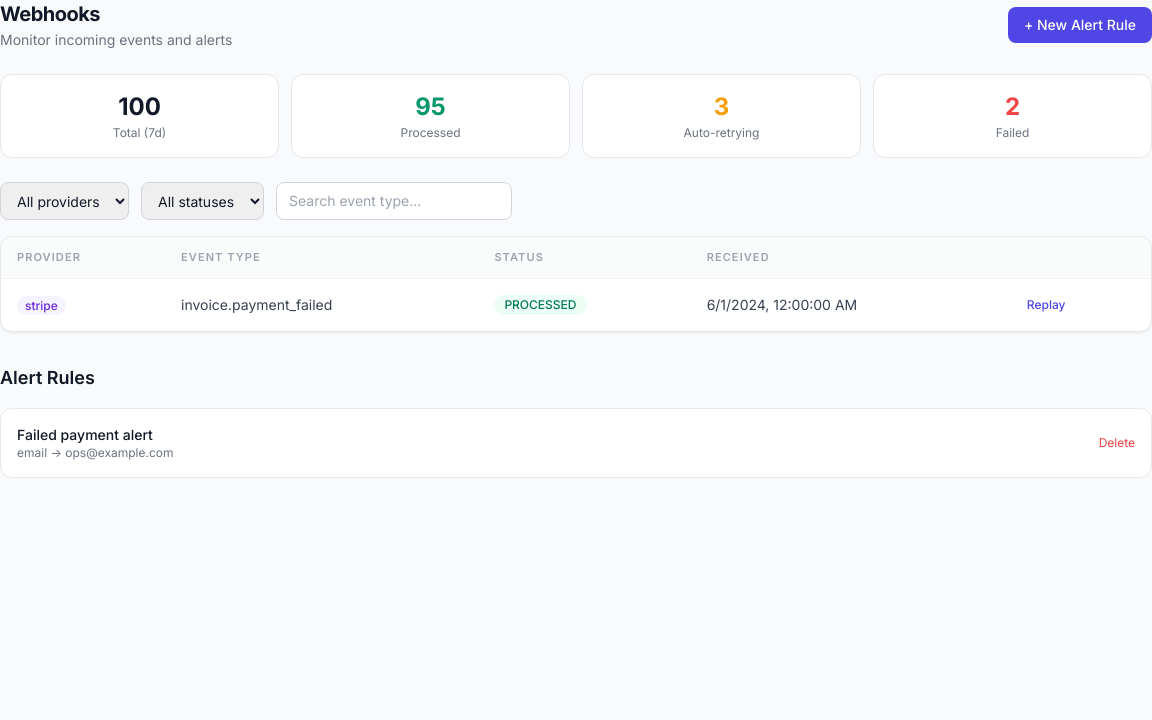
WebhooksPage › shows validation errors when alert rule form is submitted empty
The width and height of the screenshot is (1152, 720).
Click the button "+ New Alert Rule": (1080, 25) [1008,7,1151,43]
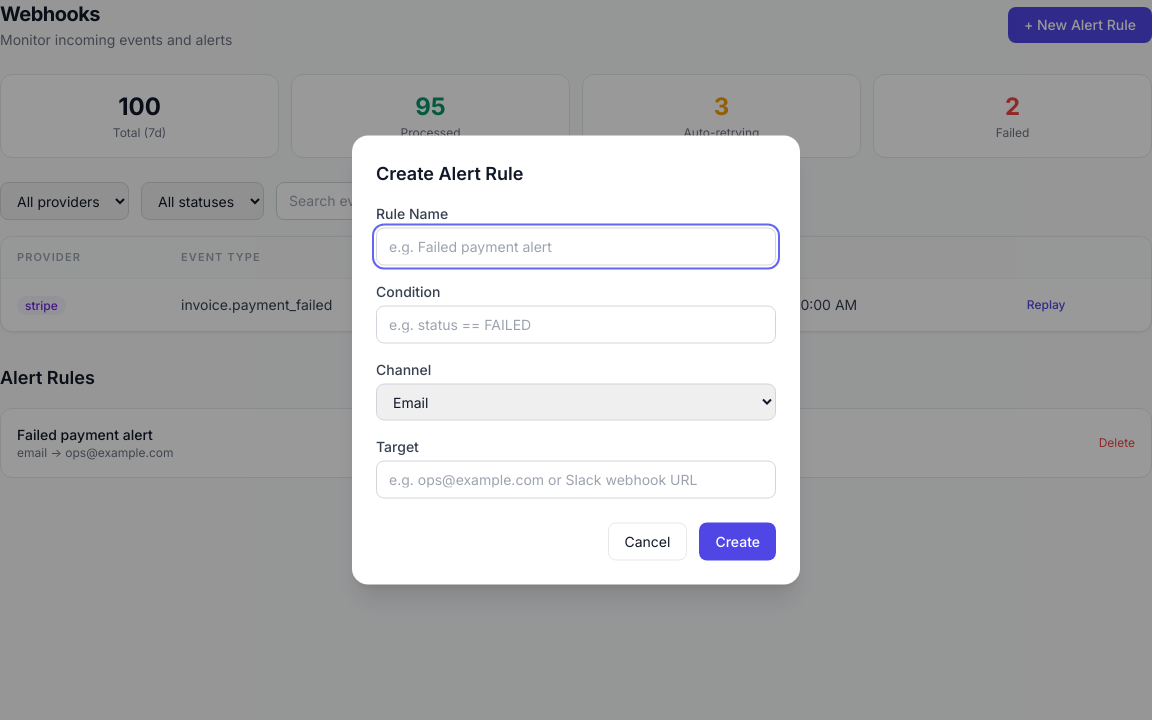
Now the heading "Create Alert Rule" is shown, box [376,162,524,184]
Click the button "Create": (738, 542) [699,522,776,560]
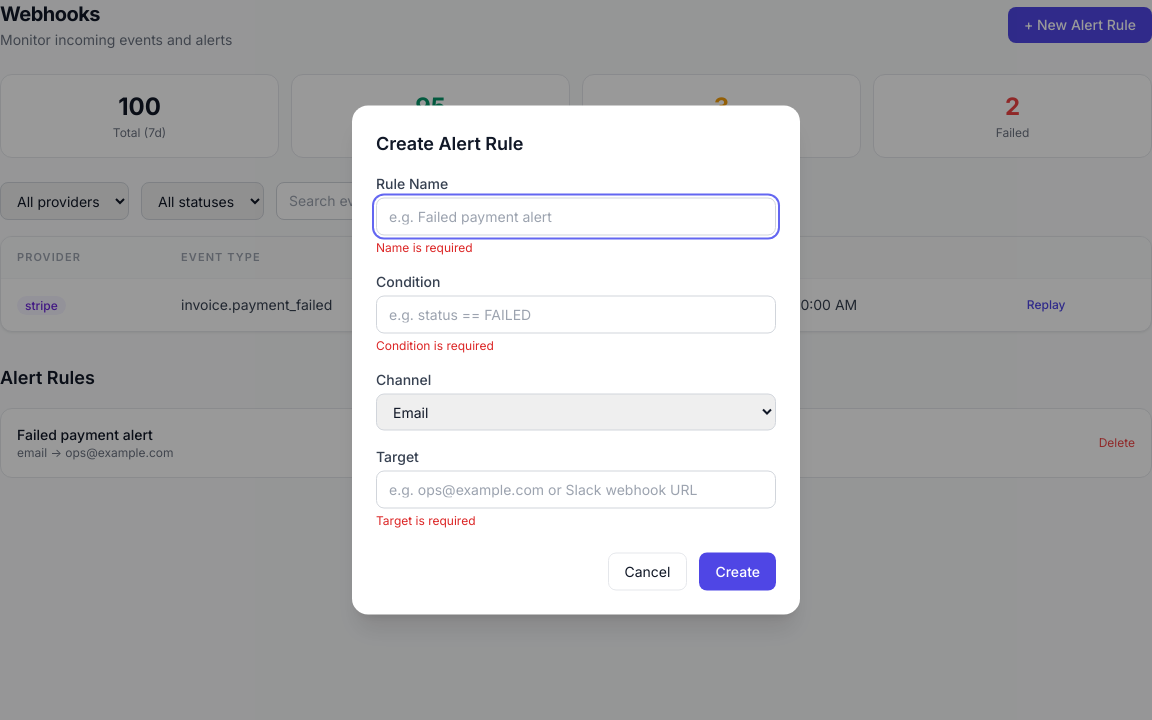
Now the text "Name is required" is shown, box [376,240,473,254]
